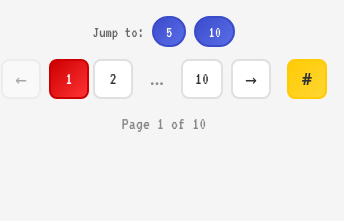
Test: Pagination › Go to Page › hides go to input after navigation
The image size is (344, 221).
Step 1. Click the button named "Go to specific page" → x=307, y=79, box x1=287 y1=59 x2=327 y2=99
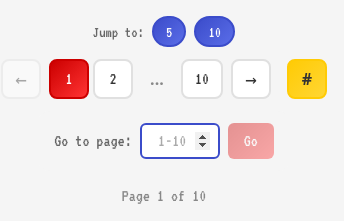
Step 2. Type "5" into the number field → x=180, y=141, box x1=140 y1=123 x2=220 y2=159
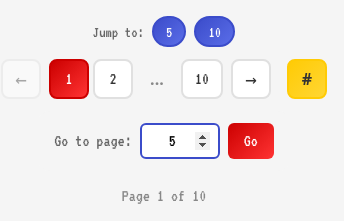
Step 3. Click the button "Go" → x=251, y=141, box x1=228 y1=123 x2=274 y2=159
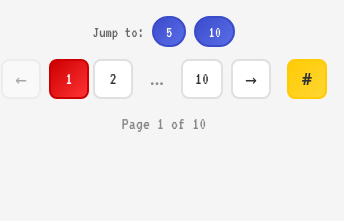
Expected: the label labelled "Go to page:" is gone
